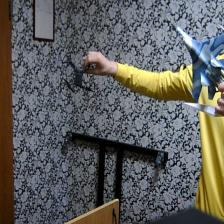drone: (60, 44, 96, 101)
